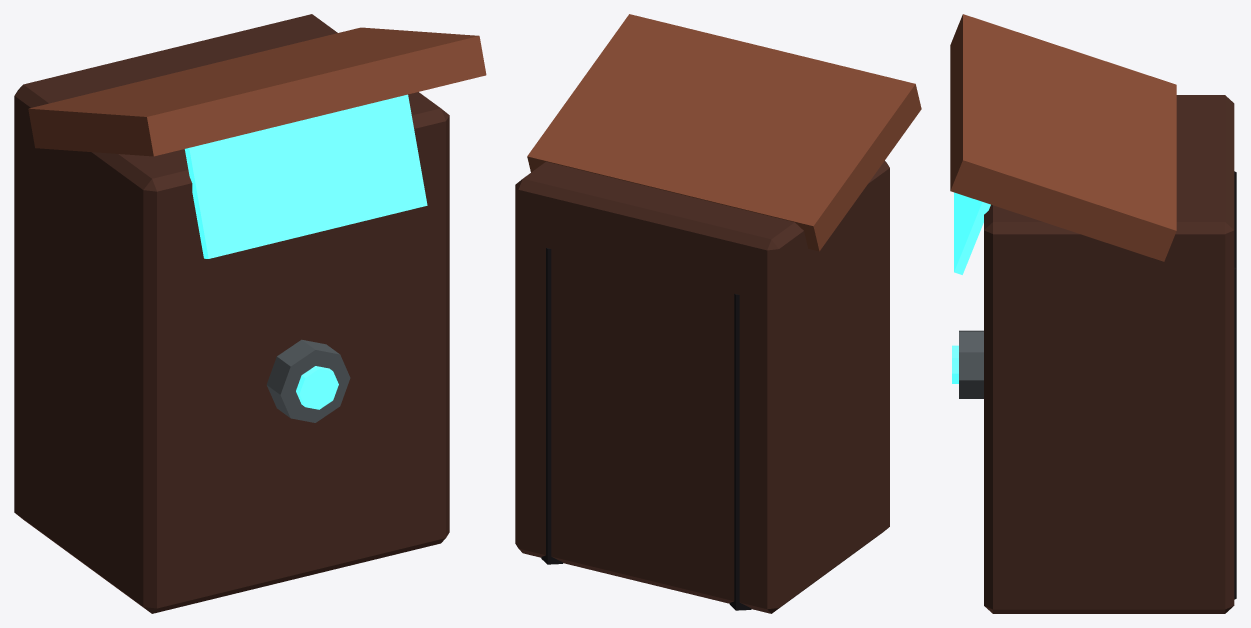
Rendered from crane_console.glb.
3 renders of one model, left to right at view 1: azimuth 30°, elevation 25°; view 2: azimuth 150°, elevation 25°; view 3: azimuth 270°, elevation 25°, orthographic. The views are drawn at different scales.
Visible parts, largest first — view 1: console, console_top, screen_emit, jack_port, jack_port_emit; view 2: console, console_top, cable-1, cable1; view 3: console, console_top, screen_emit, jack_port, cable1.
Boxes of the visible parts, x1,y1,x2,y2 form: console: (14,14,449,613); console_top: (28,27,486,156); screen_emit: (184,94,427,258); jack_port: (266,339,350,422); jack_port_emit: (296,366,338,409); console: (515,161,889,613); console_top: (527,14,921,251); cable-1: (729,293,751,610); cable1: (541,248,562,564); console: (984,95,1234,613); console_top: (950,14,1176,261); screen_emit: (954,192,990,274); jack_port: (959,330,983,398); cable1: (1234,267,1236,599).
Bounding box in the file's own units: 0.76 × 1.12 × 0.6286.
